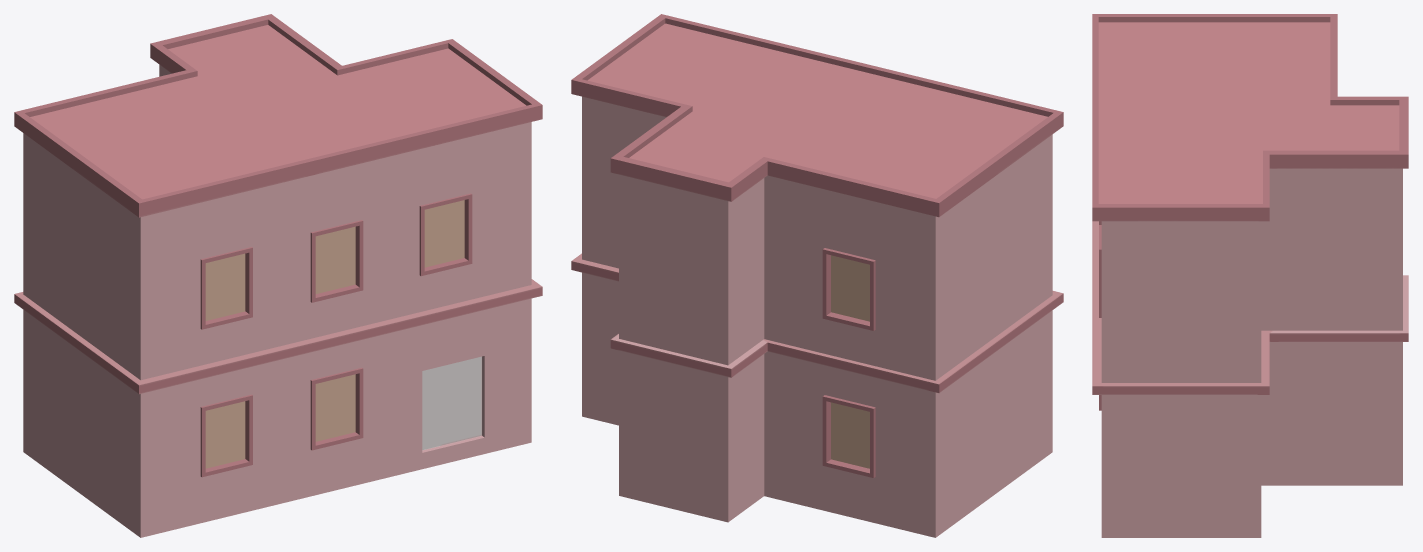
Rendered from Huis_03.fbx.
The picture shows the model from 3 angles, left to right: view 1: azimuth 30°, elevation 25°; view 2: azimuth 150°, elevation 25°; view 3: azimuth 270°, elevation 25°; orthographic projection.
Visible parts, largest first — view 1: House_03, Top_03, Mid_04, Raam_051, Raam_049, Raam_048, Raam_052, Raam_047; view 2: House_03, Top_03, Mid_04, Raam_053, Raam_054; view 3: House_03, Top_03, Mid_04.
Part boxes in pixels (bbox=[...]): House_03: bbox=[23, 64, 531, 537]; Top_03: bbox=[14, 14, 542, 217]; Mid_04: bbox=[14, 279, 542, 394]; Raam_051: bbox=[310, 367, 363, 450]; Raam_049: bbox=[419, 193, 472, 276]; Raam_048: bbox=[310, 220, 363, 302]; Raam_052: bbox=[200, 394, 252, 477]; Raam_047: bbox=[200, 247, 252, 329]; House_03: bbox=[582, 96, 1052, 537]; Top_03: bbox=[571, 14, 1063, 217]; Mid_04: bbox=[571, 253, 1063, 392]; Raam_053: bbox=[822, 248, 875, 330]; Raam_054: bbox=[822, 395, 875, 477]; House_03: bbox=[1101, 168, 1402, 537]; Top_03: bbox=[1092, 14, 1408, 221]; Mid_04: bbox=[1092, 221, 1408, 394].
Bounding box in the file's own units: 0.0258 × 0.0207 × 0.0178.
